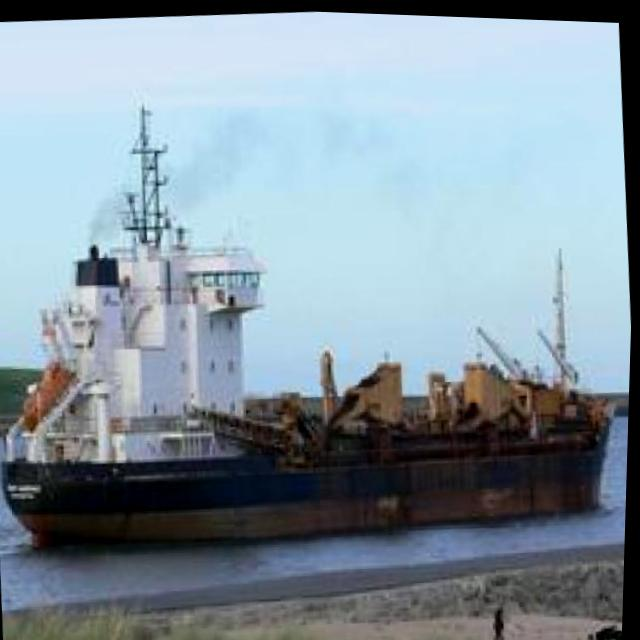ship2: (1, 106, 629, 550)
